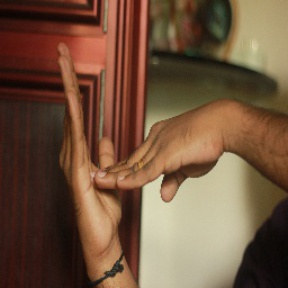Z: (46, 38, 223, 250)
